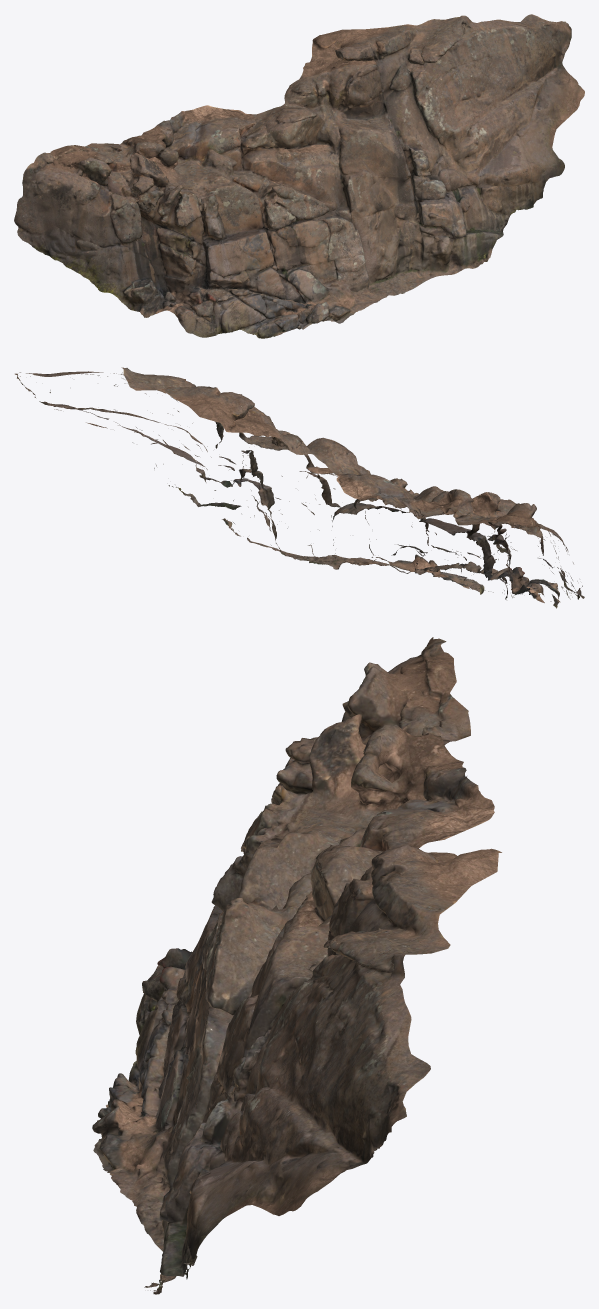
The model's file is hill_cliff.glb.
The picture shows the model from 3 angles, top to bottom: view 1: azimuth 30°, elevation 25°; view 2: azimuth 150°, elevation 25°; view 3: azimuth 270°, elevation 25°; orthographic projection. The views are drawn at different scales.
Visible parts, largest first — view 1: hill_cliff; view 2: hill_cliff; view 3: hill_cliff.
Boxes of the visible parts, x1=… form: hill_cliff: x1=14, y1=14, x2=584, y2=338; hill_cliff: x1=15, y1=367, x2=584, y2=608; hill_cliff: x1=92, y1=637, x2=501, y2=1294.
Size of the model in its own units: 20.23 by 7.18 by 6.59.
1 material, 1 textured.
